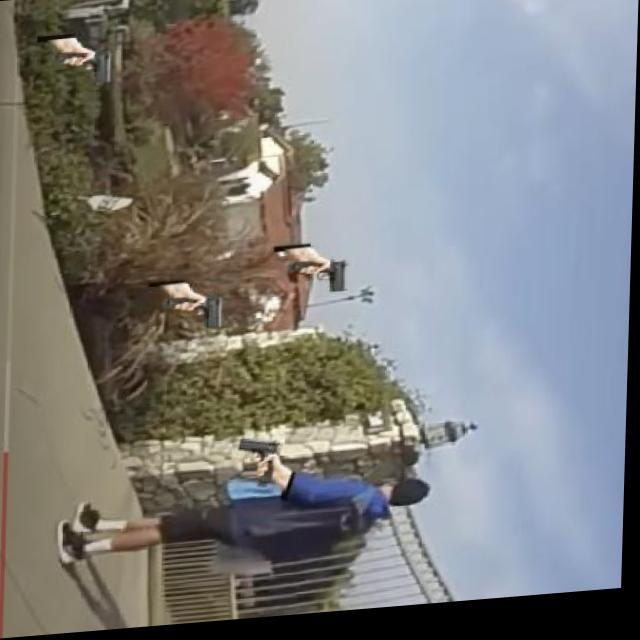handgun: (155, 289, 233, 342), (286, 253, 357, 310), (45, 46, 124, 95), (238, 434, 287, 497)
